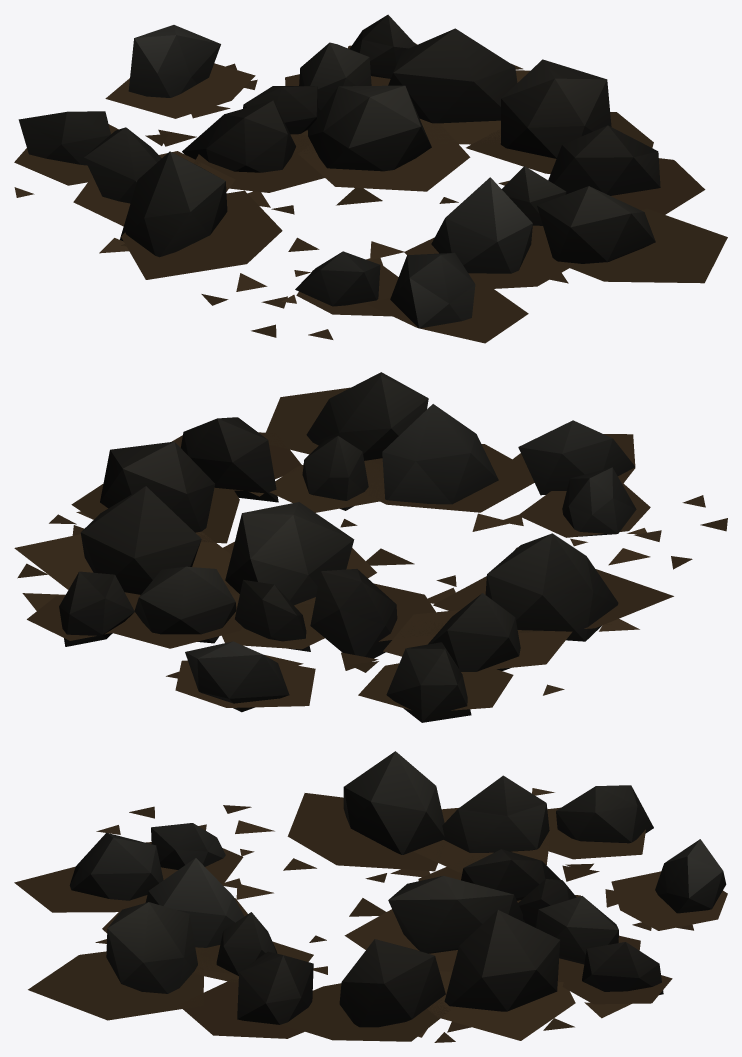
Rendered from coal-rich.glb.
The picture shows the model from 3 angles, top to bottom: view 1: azimuth 30°, elevation 25°; view 2: azimuth 150°, elevation 25°; view 3: azimuth 270°, elevation 25°; orthographic projection. The views are drawn at different scales.
Parts seen in each view (by area): view 1: coal-rich; view 2: coal-rich; view 3: coal-rich.
Boxes of the visible parts, x1,y1,x2,y2 form: coal-rich: [14, 14, 727, 343]; coal-rich: [14, 372, 727, 722]; coal-rich: [14, 751, 727, 1042].
Bounding box in the file's own units: 1.36 × 0.2296 × 1.61.
